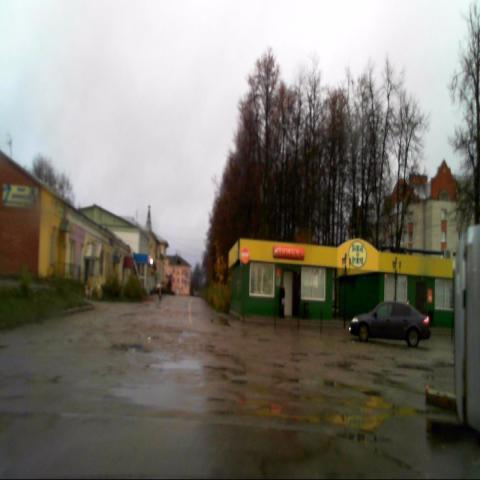3_1: (240, 246, 250, 264)
